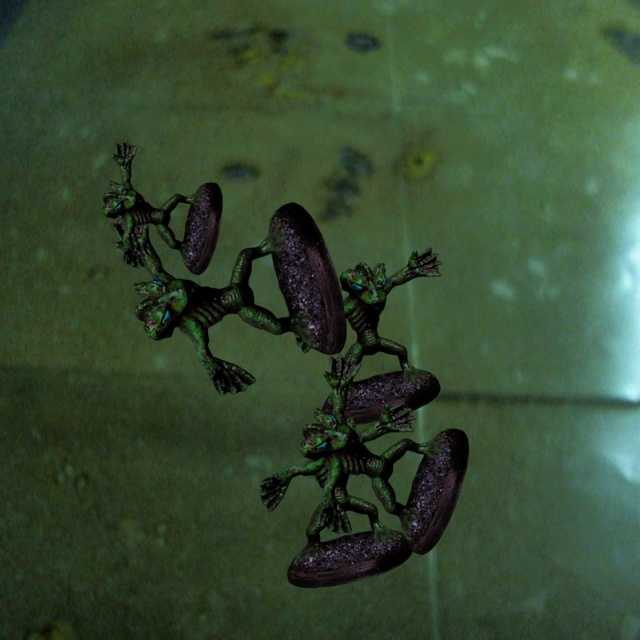pieza_juego: (110, 202, 346, 395), (300, 353, 468, 554), (259, 401, 415, 587), (294, 247, 442, 425), (102, 140, 222, 274)
